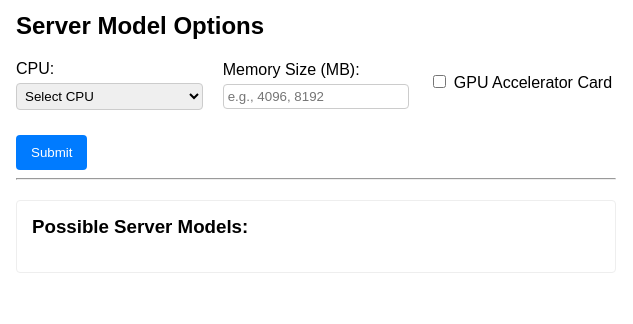
it: App Component › displays "No Options" for invalid initial memory input
Type "1000" into the field labelled "Memory Size (MB):" at (316, 96), box [223,84,409,109]
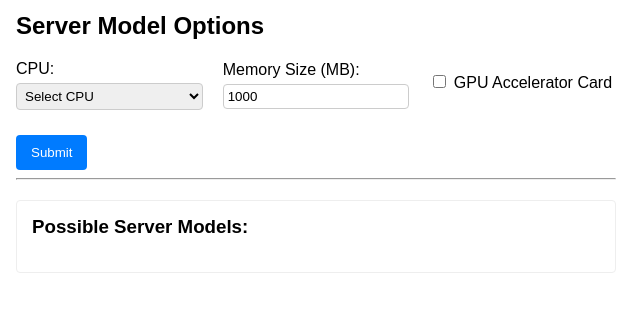
Click the button "Submit" at (52, 152), box [16,135,88,170]
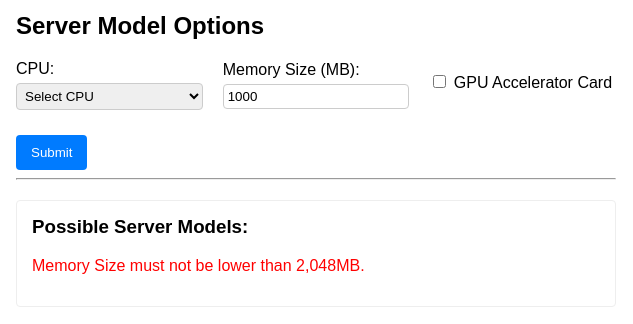
Result: the text "Memory Size must not be lower than 2,048MB." is shown at [32,256,365,274]
